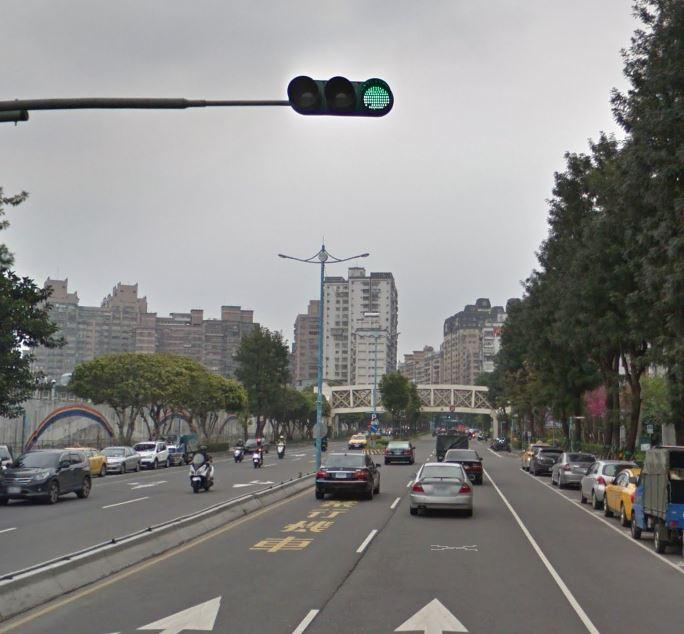car: (0, 447, 97, 505), (308, 440, 383, 504), (409, 456, 472, 516), (577, 457, 640, 513), (606, 463, 646, 529), (553, 447, 601, 496), (442, 443, 485, 482), (93, 442, 139, 475), (129, 440, 175, 467), (382, 433, 413, 465), (341, 430, 373, 459)
green_traffic_light: (286, 73, 393, 117)
motorcycle: (188, 457, 216, 494)
